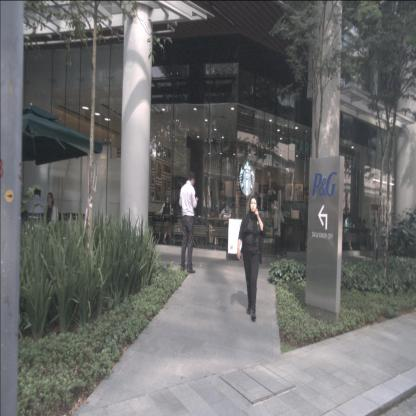human-pedestrian-adult: (237, 195, 266, 321), (179, 169, 199, 274), (43, 192, 57, 268), (157, 196, 173, 244), (218, 200, 232, 248), (273, 204, 285, 254), (344, 213, 354, 251), (356, 217, 366, 251), (359, 219, 367, 250)
